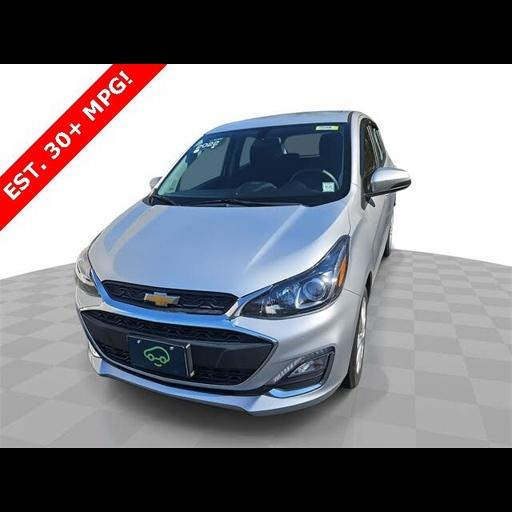hatchback: (78, 112, 411, 412)
